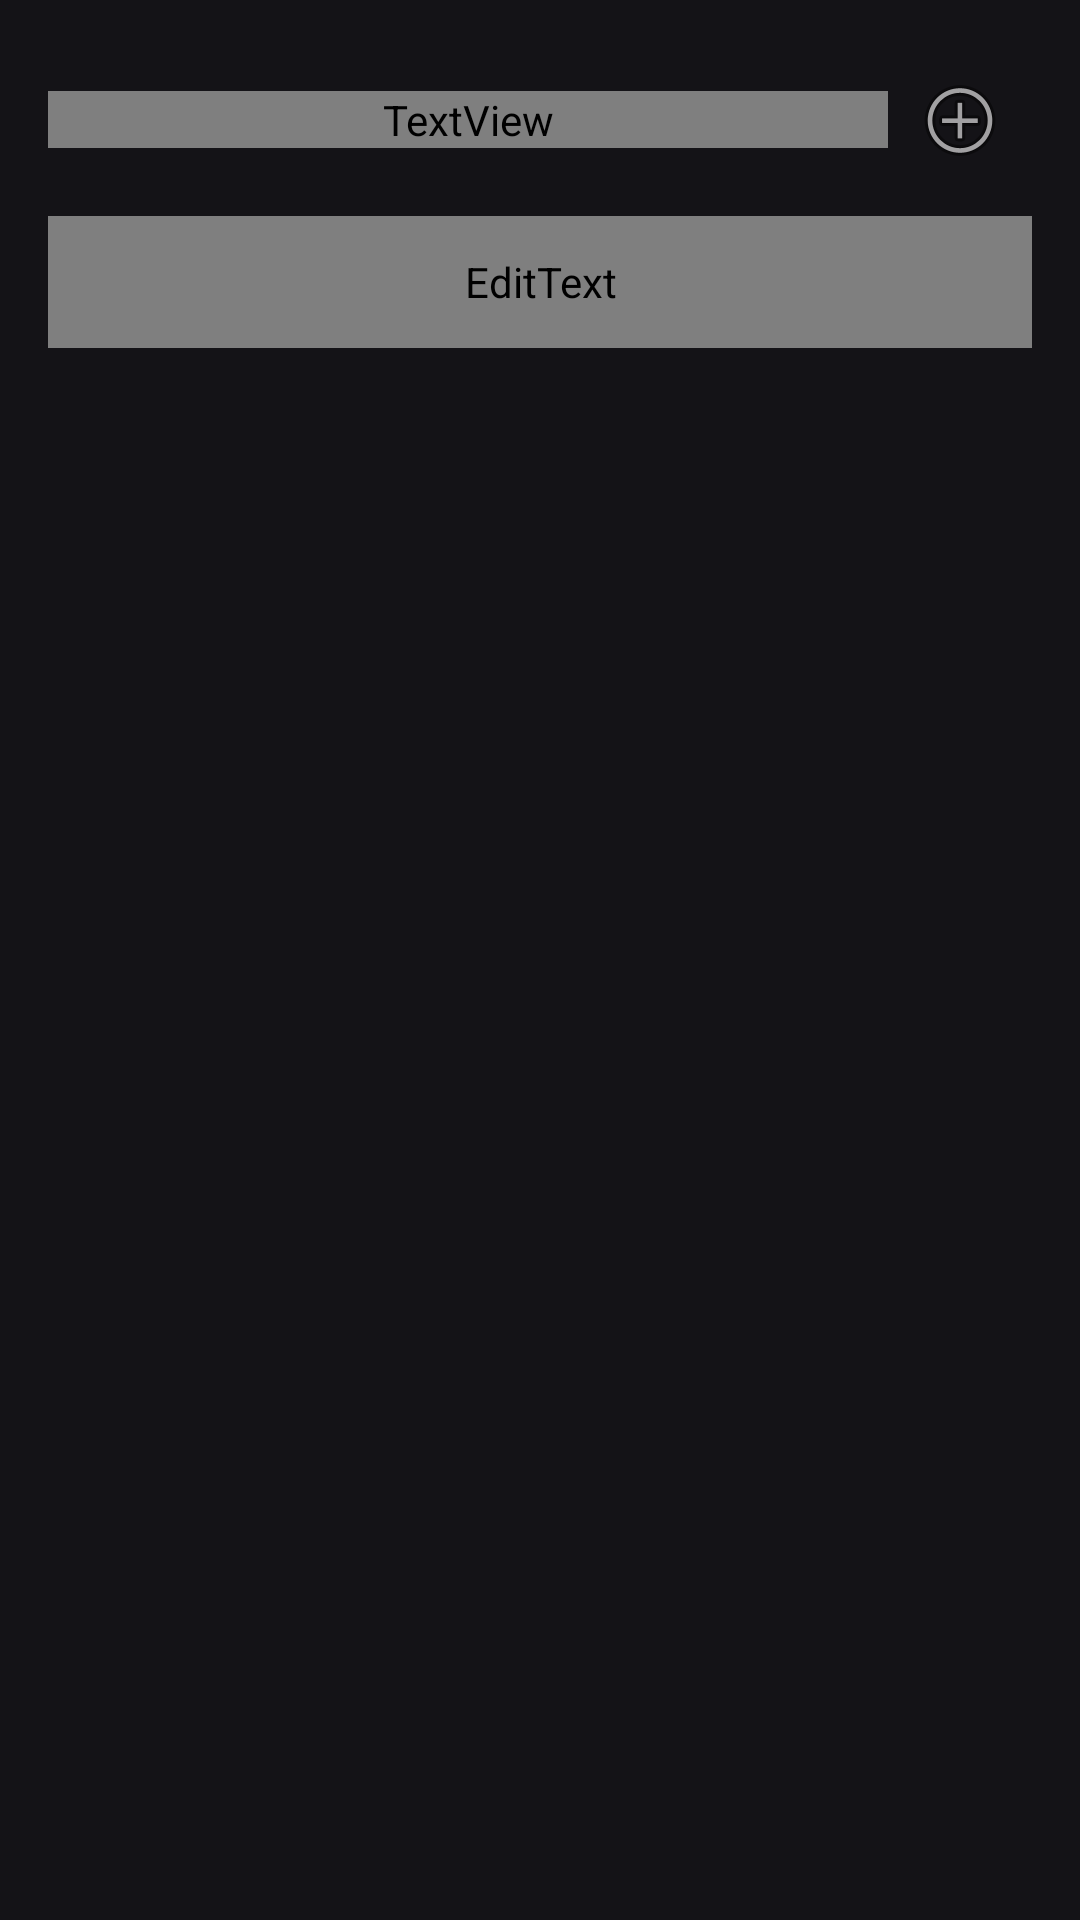

Icon bounding boxes for this 1080×1920 phone screenshot, format (x1, y1, x2, y2):
Add Current Tab: (927, 88, 993, 153)
